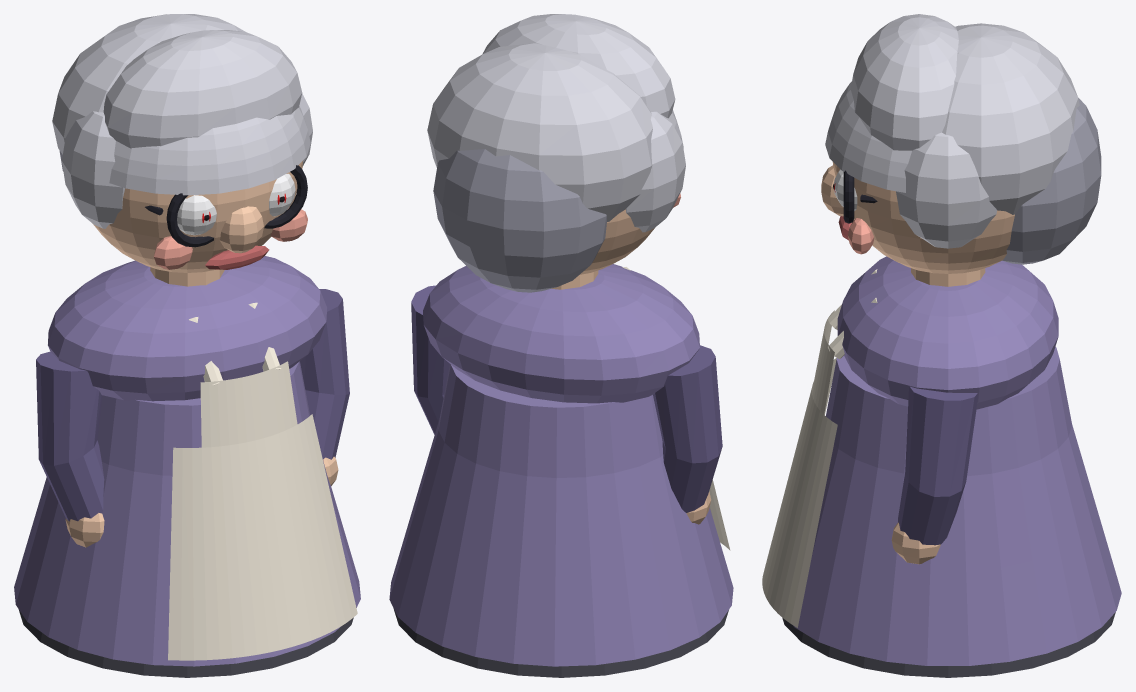
Rendered from grandma.obj.
3 views of the same model, side by side, from view 1: azimuth 30°, elevation 25°; view 2: azimuth 150°, elevation 25°; view 3: azimuth 270°, elevation 25° (orthographic).
Size of the model in its own units: 1.69 by 3.09 by 1.74.
